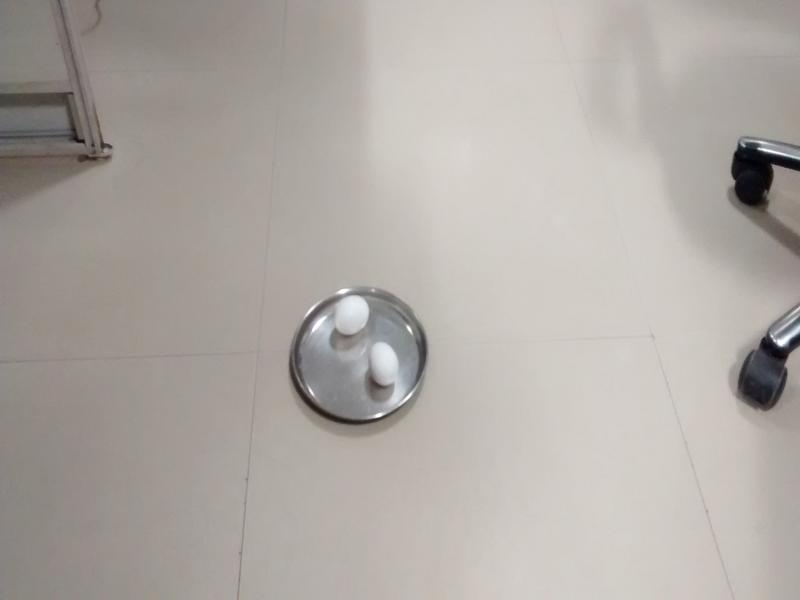egg: (366, 340, 405, 389)
